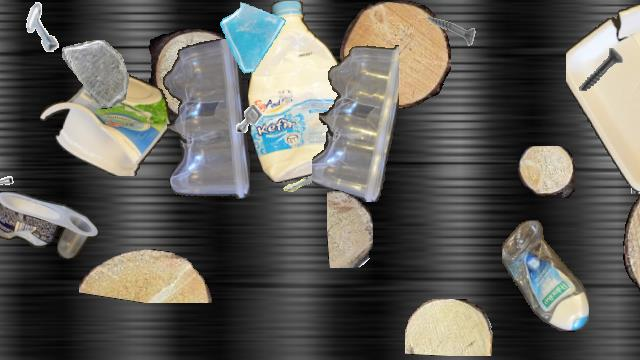glass: (216, 1, 290, 75), (62, 40, 130, 108)
metal: (569, 39, 631, 101), (266, 152, 324, 210), (418, 1, 476, 59), (18, 1, 70, 53), (228, 98, 270, 140), (623, 147, 640, 193), (0, 149, 17, 193)
plastic: (248, 1, 350, 183), (160, 39, 250, 203), (566, 1, 640, 191), (40, 70, 170, 176), (312, 41, 398, 201), (502, 220, 588, 332), (0, 191, 97, 259)
wood: (340, 1, 450, 109), (146, 29, 242, 119), (79, 249, 215, 303), (405, 299, 493, 355), (327, 190, 373, 268), (518, 146, 574, 198), (606, 93, 640, 169), (623, 163, 640, 295)
